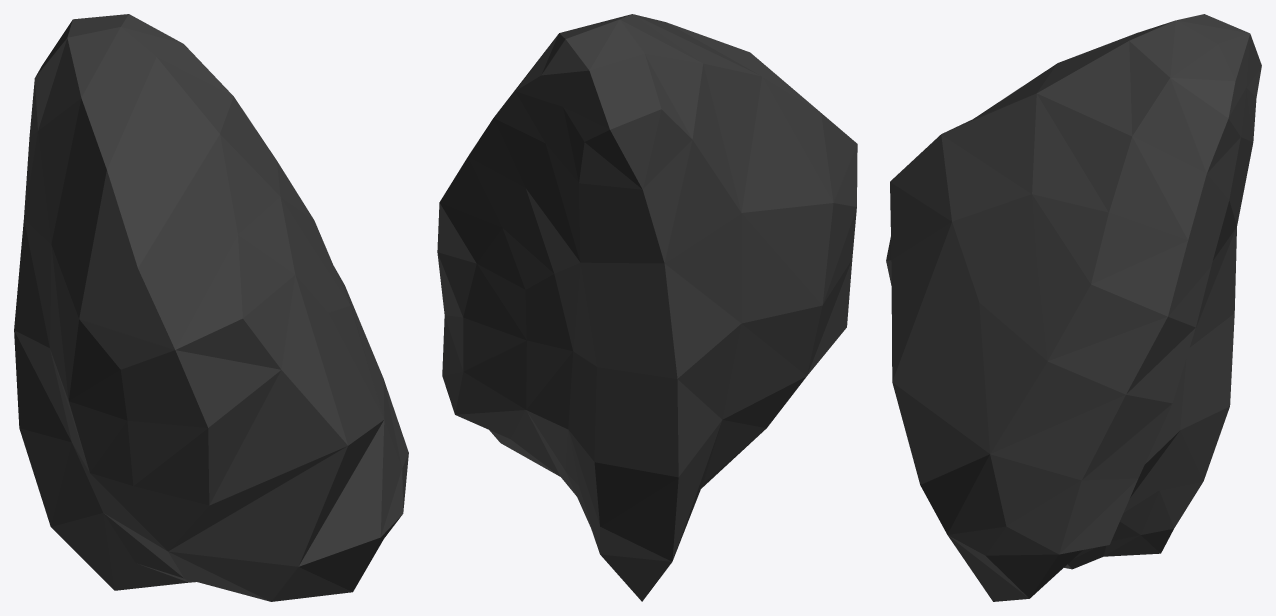
Rendered from LFL_scapula_2.glb.
3 views of the same model, side by side, from view 1: azimuth 30°, elevation 25°; view 2: azimuth 150°, elevation 25°; view 3: azimuth 270°, elevation 25° (orthographic). The views are drawn at different scales.
Visible parts, largest first — view 1: LFL_scapula_2; view 2: LFL_scapula_2; view 3: LFL_scapula_2.
Part boxes in pixels (x1,y1,x2,y2): LFL_scapula_2: (14,14,408,601); LFL_scapula_2: (437,14,857,601); LFL_scapula_2: (886,14,1261,601).
Bounding box in the file's own units: 6.24 × 9.44 × 5.96.
1 material, 1 textured.
